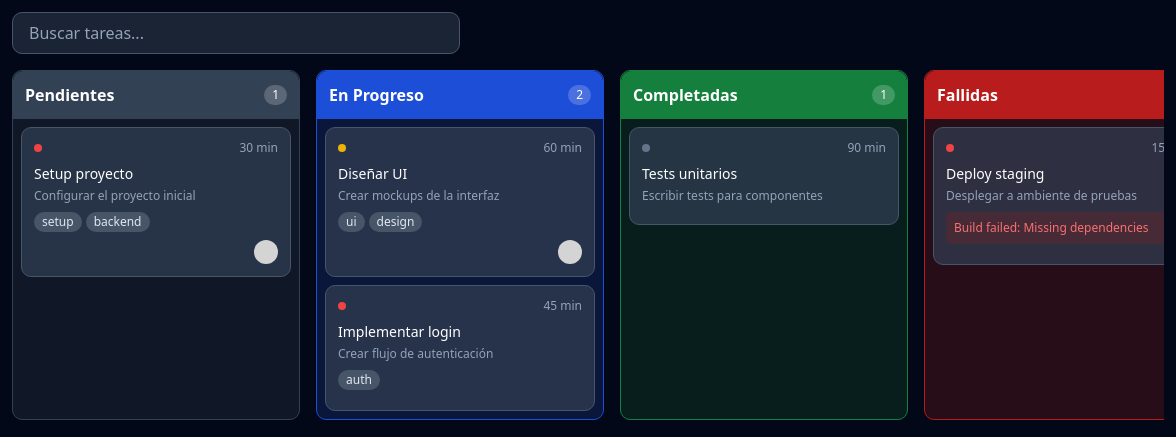
it: KanbanBoard › Filtering › should filter tasks by search term
Type "login" into the field with placeholder "Buscar tareas..." at {"x": 236, "y": 33}, box x1=12 y1=12 x2=460 y2=54
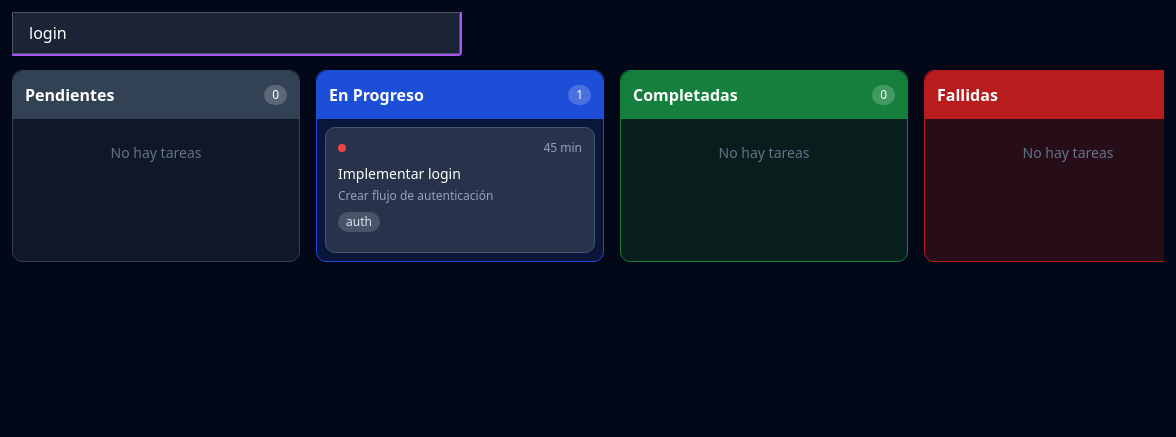
Expected: the heading "Implementar login" is shown, x1=338 y1=164 x2=461 y2=183
Now the button "Setup proyecto" is gone
